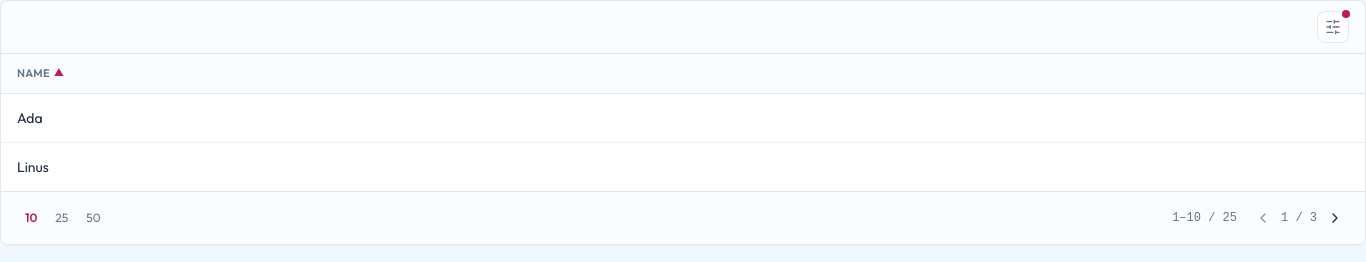
Test case: DataTable › resets column preferences back to defaults
This screenshot has width=1366, height=262.
# Open menu
Click the button named "table settings" at [1333, 27], box [1317,11,1349,43]
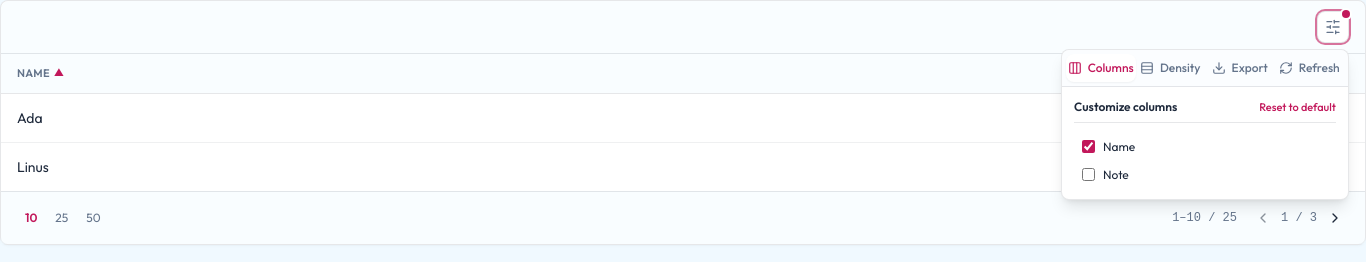
# Click Reset
Click the button "Reset to default" at [1298, 107], box [1259,99,1336,116]
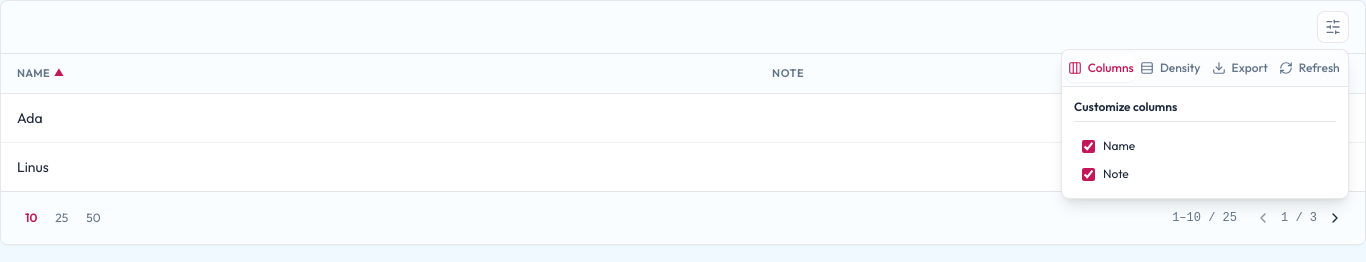
Result: the column heading "Note" is shown at [756,54,1365,93]
